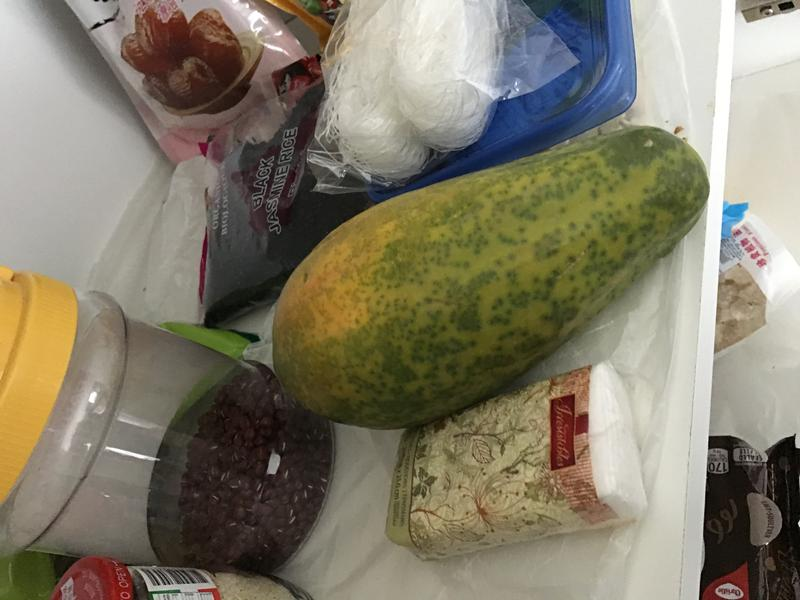papaya: (258, 116, 719, 436)
